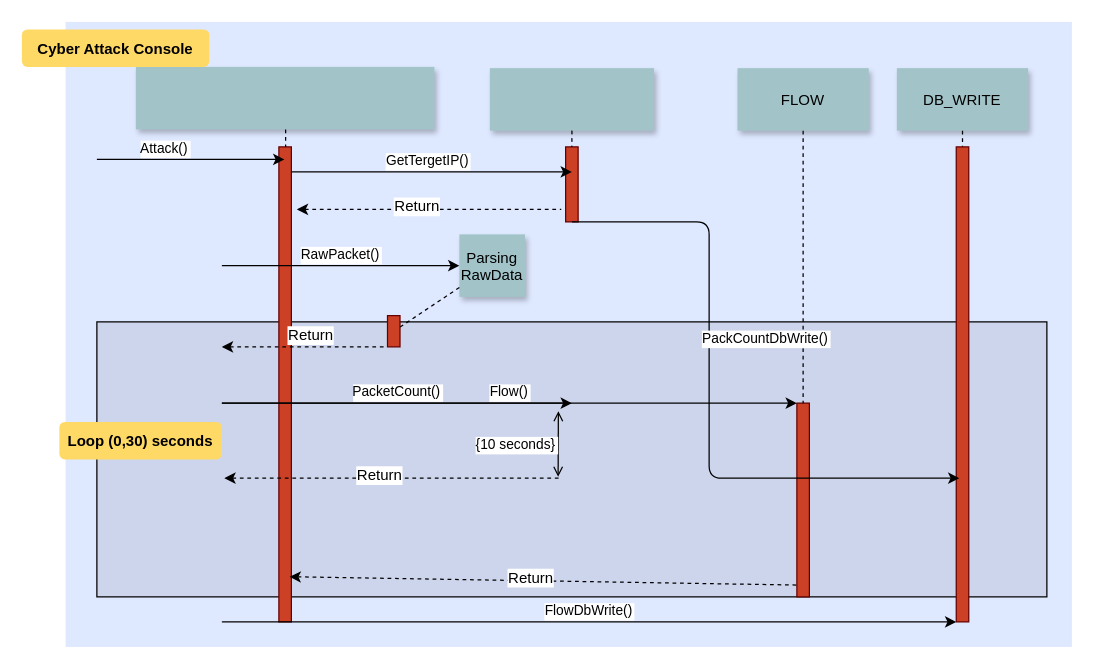
The diagram is 1093 pixels wide and 668 high, and some of its shapes have lost their labels. The shapes that lost their labels are listed below. From the top down, each one's centre as x and y in pixels, then its label:
the point at 285,99: ATTACK_SIMULATOR_USER_CONTROL
the point at 572,100: SETTINGS
